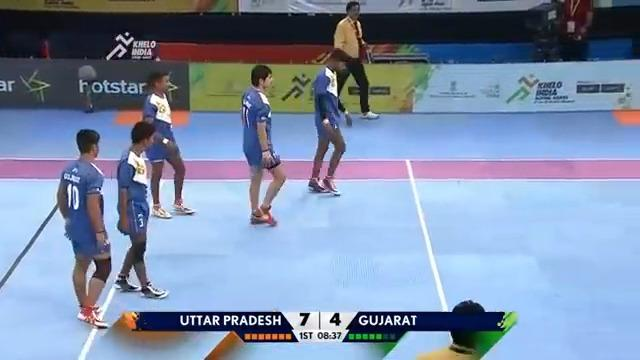Player: (55, 128, 112, 328), (113, 120, 169, 299), (140, 70, 196, 218), (239, 64, 286, 226), (306, 48, 353, 195), (415, 298, 517, 359), (331, 0, 379, 123)
referee: (556, 0, 594, 60)
